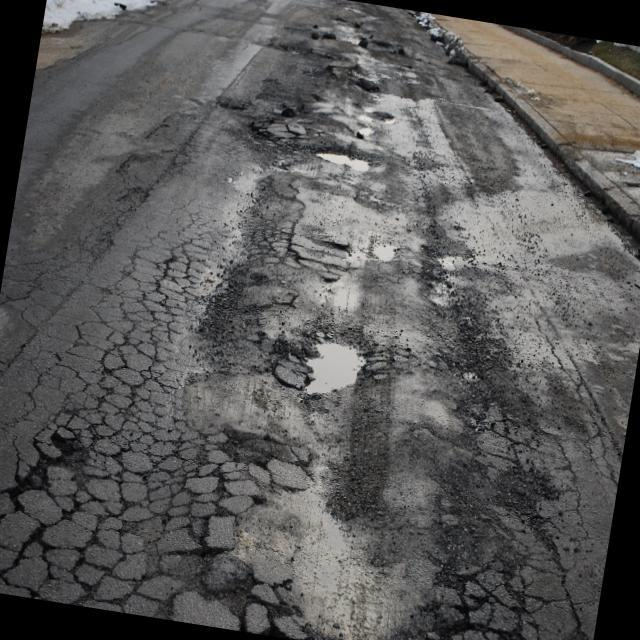Pothole: (207, 468, 455, 640), (253, 323, 412, 458), (0, 398, 113, 534), (308, 10, 417, 71), (227, 76, 300, 167), (292, 130, 398, 188), (296, 56, 386, 116), (354, 238, 429, 286), (332, 103, 408, 150), (153, 242, 194, 319)
